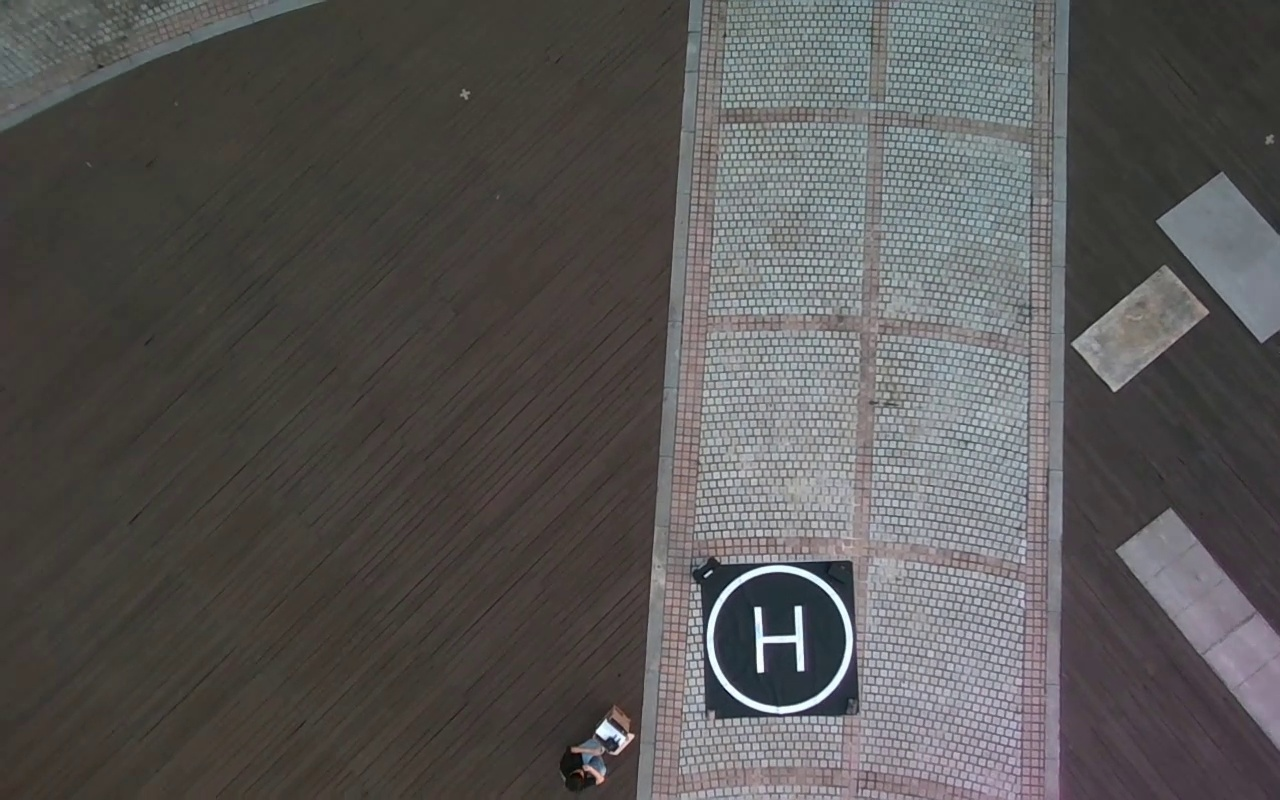H: (752, 604, 805, 673)
heliport: (706, 566, 854, 712)
